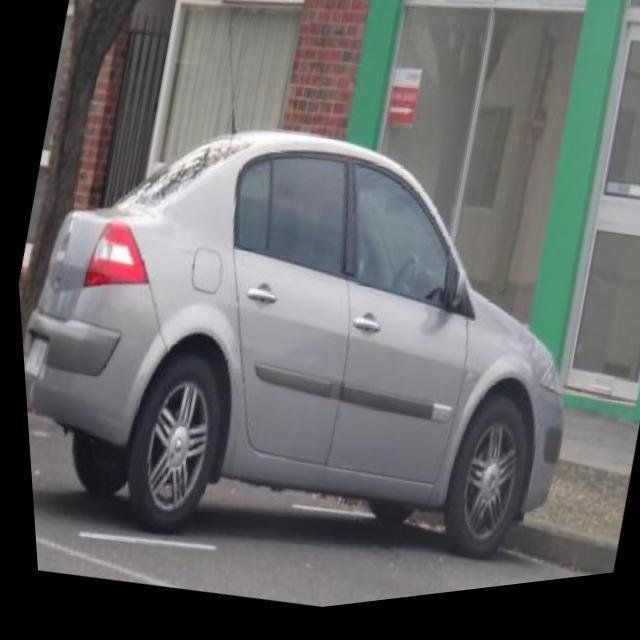license_plate: (18, 335, 45, 379)
